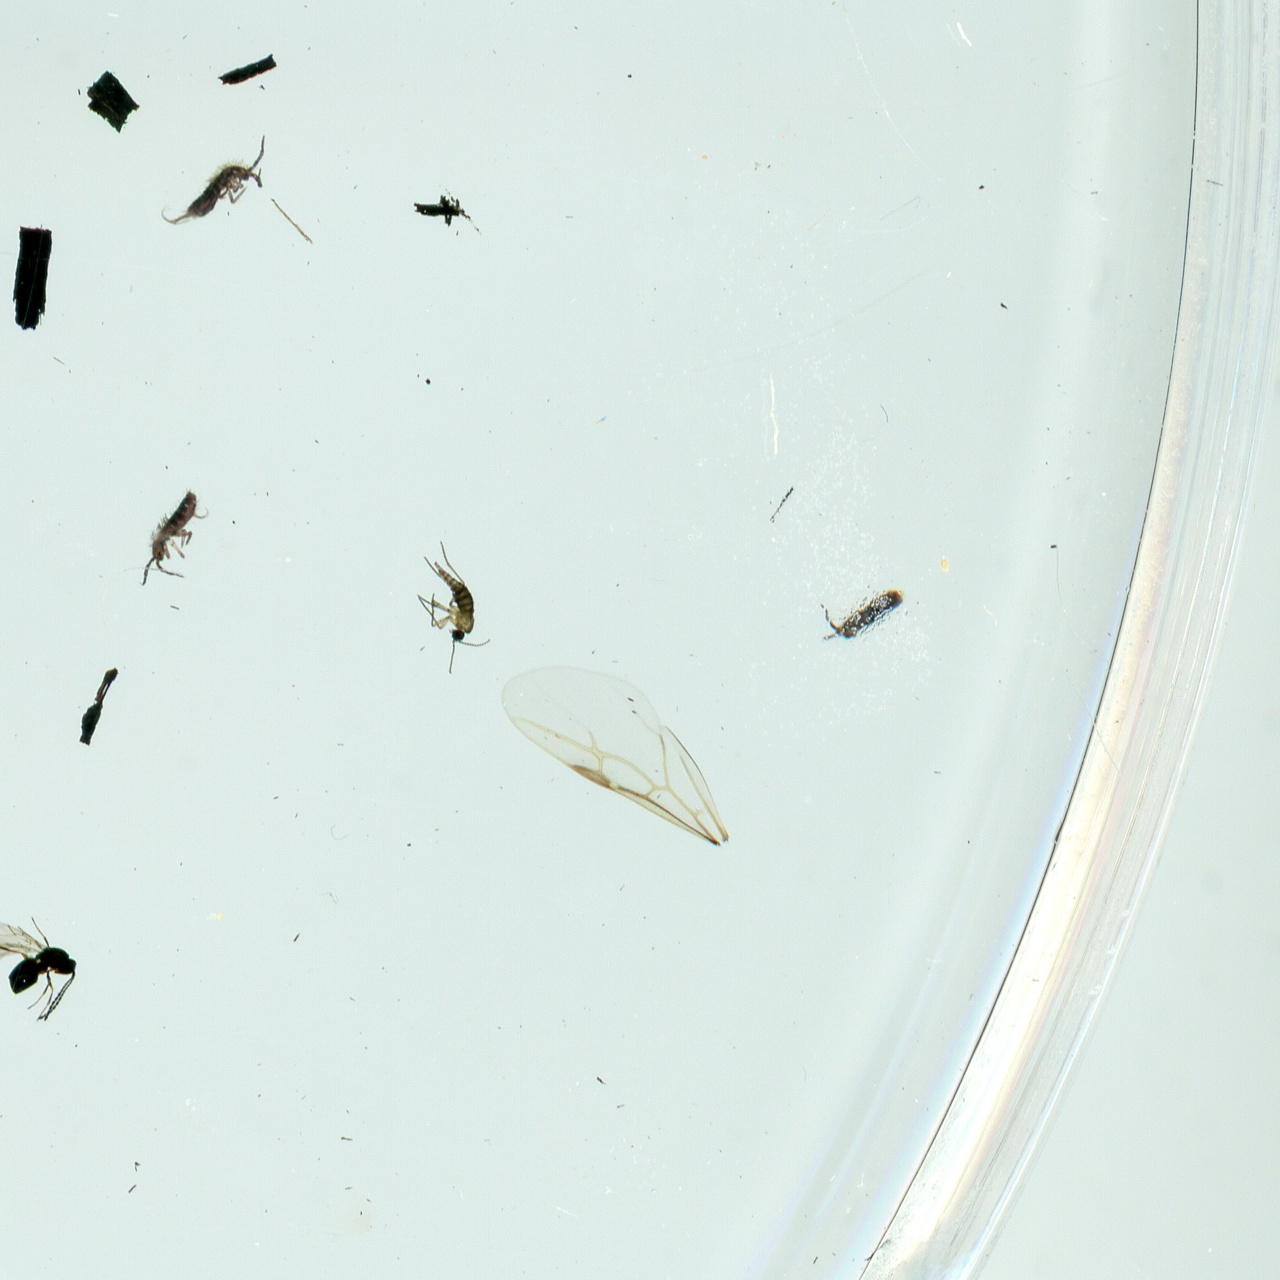arthropod: (153, 116, 293, 255), (120, 475, 228, 605), (801, 552, 916, 659), (416, 538, 493, 677), (0, 915, 81, 1024)
